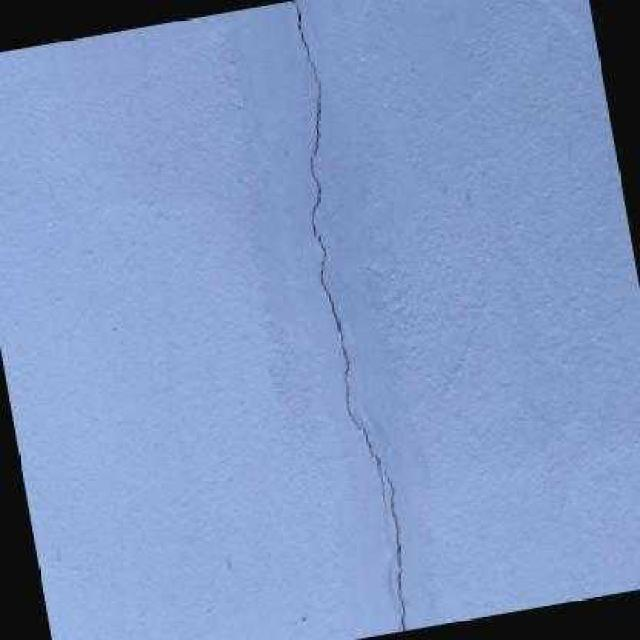D00: (286, 0, 389, 531), (390, 498, 408, 631)
